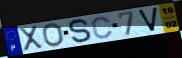7: (117, 10, 135, 37)
C: (91, 16, 115, 40)
O: (41, 22, 66, 47)
S: (68, 17, 93, 45)
V: (136, 6, 160, 33)
X: (17, 24, 45, 52)
